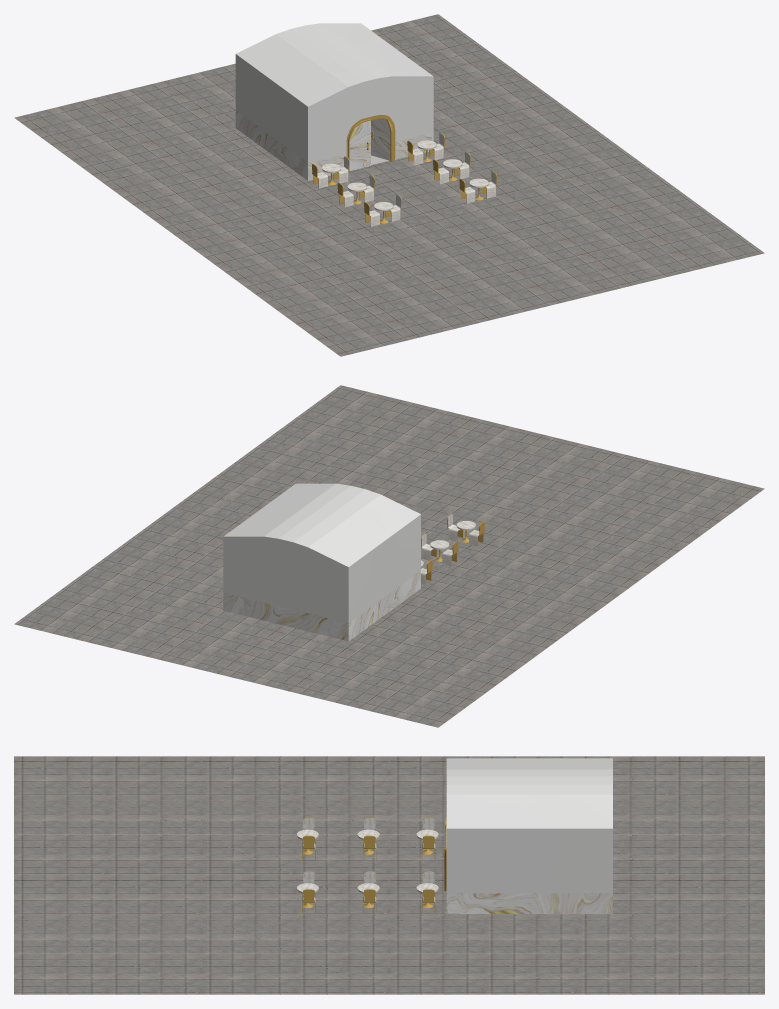
The model's file is escenario.fbx.
The picture shows the model from 3 angles, top to bottom: view 1: azimuth 30°, elevation 25°; view 2: azimuth 150°, elevation 25°; view 3: azimuth 270°, elevation 25°; orthographic projection. The views are drawn at different scales.
Parts seen in each view (by area): view 1: tierra, pardes, Cube, Cube.001; view 2: tierra, pardes; view 3: tierra, pardes.
Part boxes in pixels (box(x1,y1,x2,y2)): tierra: box(14, 14, 764, 356); pardes: box(235, 23, 433, 180); Cube: box(348, 119, 371, 171); Cube.001: box(371, 118, 393, 161); tierra: box(14, 385, 764, 727); pardes: box(223, 483, 420, 641); tierra: box(14, 756, 764, 994); pardes: box(446, 758, 612, 913).
Bounding box in the file's own units: 6879 × 1567 × 9172.
